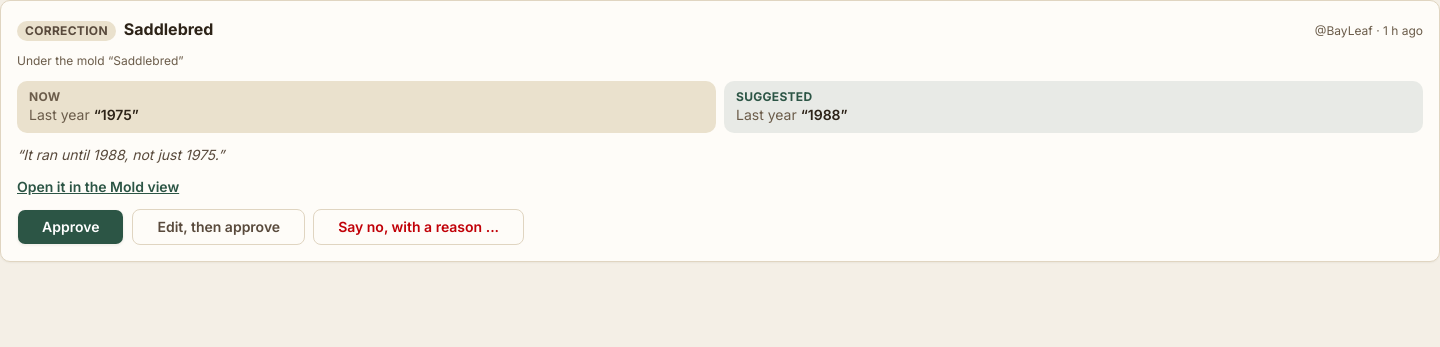
Scenario: QueueItemCard › decides nothing when the member changed it meanwhile, and offers a reload
Click the button "Approve".
click(71, 227)  # box left=17, top=209, right=124, bottom=245
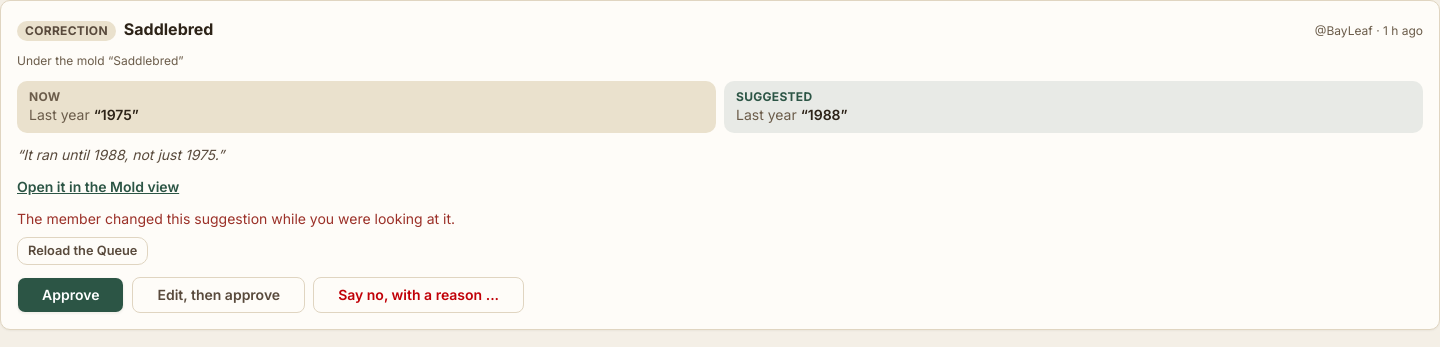
Now the message shows "changed this suggestion", box left=17, top=210, right=455, bottom=227
Now the button "Reload the Queue" is shown, box left=17, top=237, right=148, bottom=265
